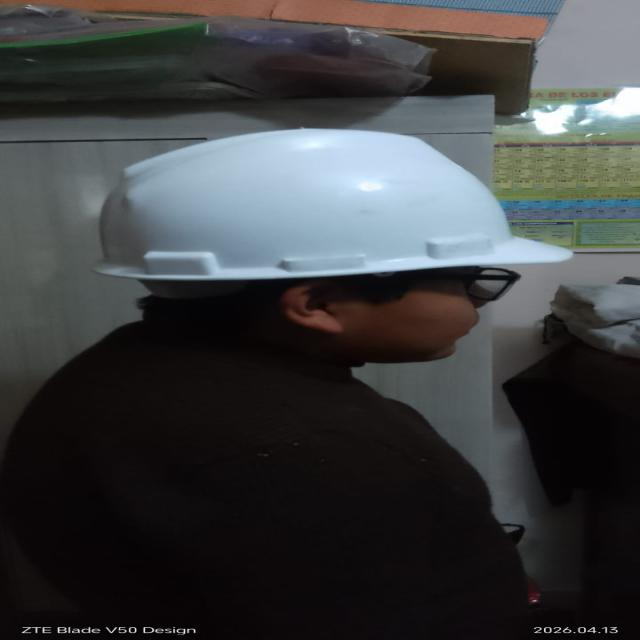casco: (89, 118, 583, 292)
